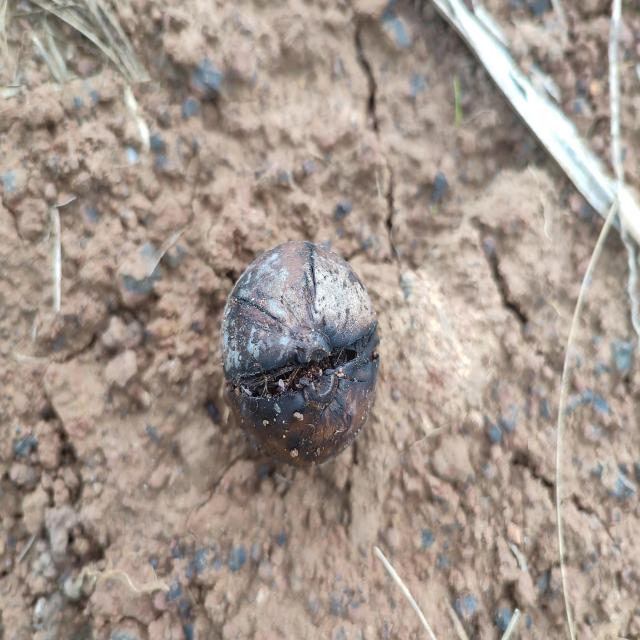damaged: (220, 242, 380, 467)
